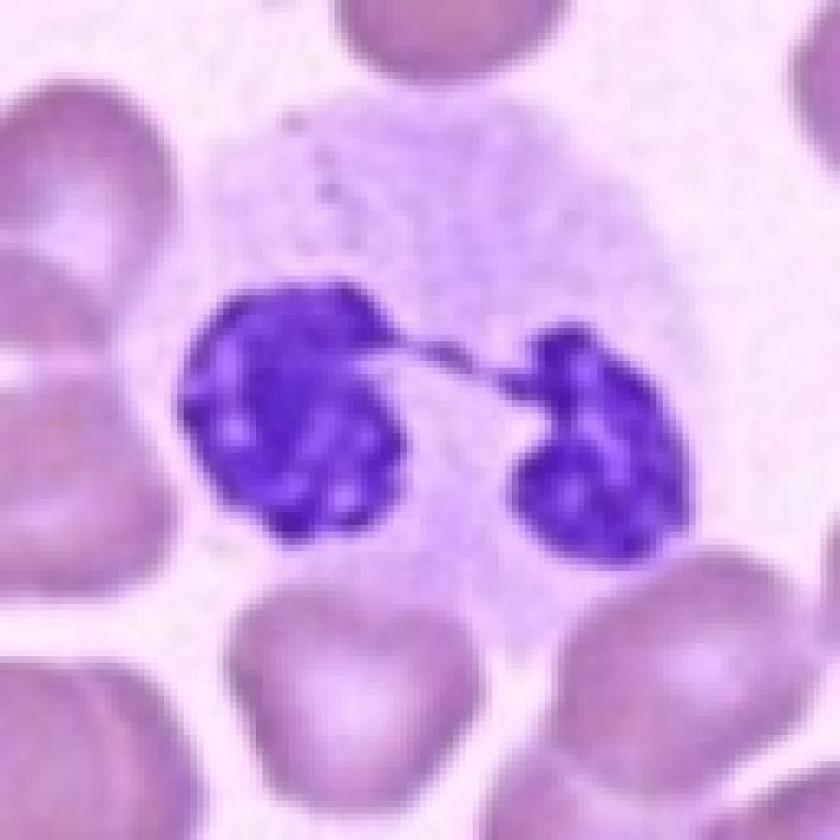neutrophil: (89, 52, 774, 685)
